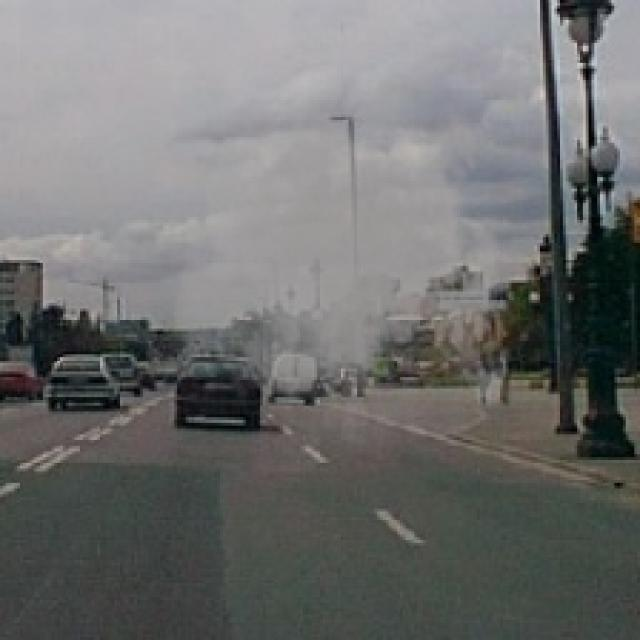Smoke: (168, 49, 520, 468)
